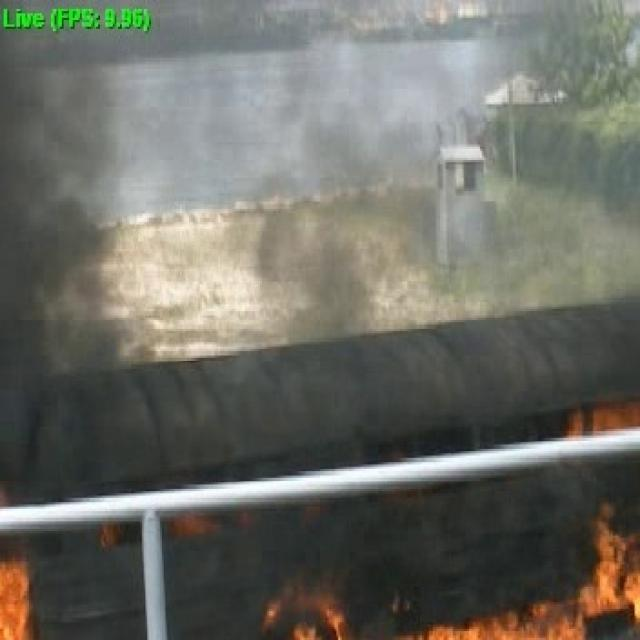Fire: (588, 517, 637, 629), (0, 560, 30, 640)
Smoke: (11, 180, 98, 406)
